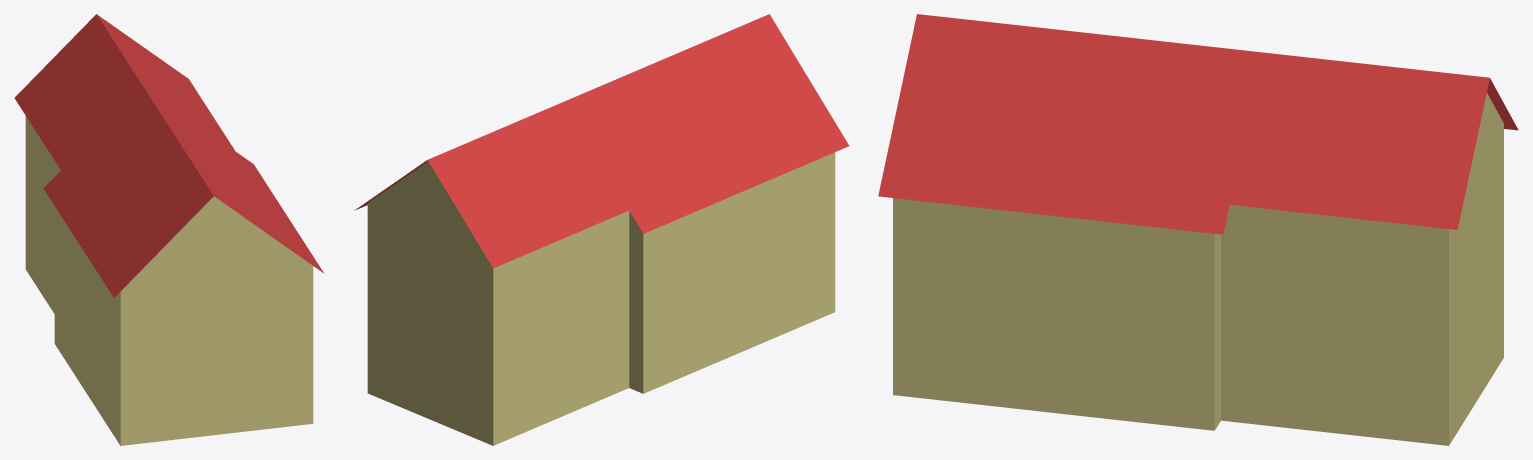
3 renders of one model, left to right at view 1: azimuth 30°, elevation 25°; view 2: azimuth 150°, elevation 25°; view 3: azimuth 270°, elevation 25°, orthographic. The views are drawn at different scales.
Bounding box in the file's own units: 16.69 × 26.3 × 14.61.
